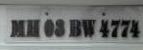0: (43, 18, 55, 38)
3: (54, 17, 67, 39)
4: (98, 17, 111, 40), (130, 18, 143, 40)
7: (109, 18, 121, 38), (120, 18, 131, 37)
B: (69, 19, 83, 40)
H: (25, 18, 40, 39)
M: (10, 19, 26, 39)
W: (81, 17, 96, 38)
